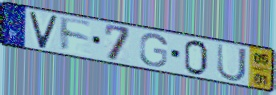0: (183, 39, 211, 77)
7: (103, 22, 133, 63)
F: (58, 15, 94, 54)
G: (138, 32, 169, 68)
U: (215, 42, 248, 83)
V: (28, 11, 59, 51)
